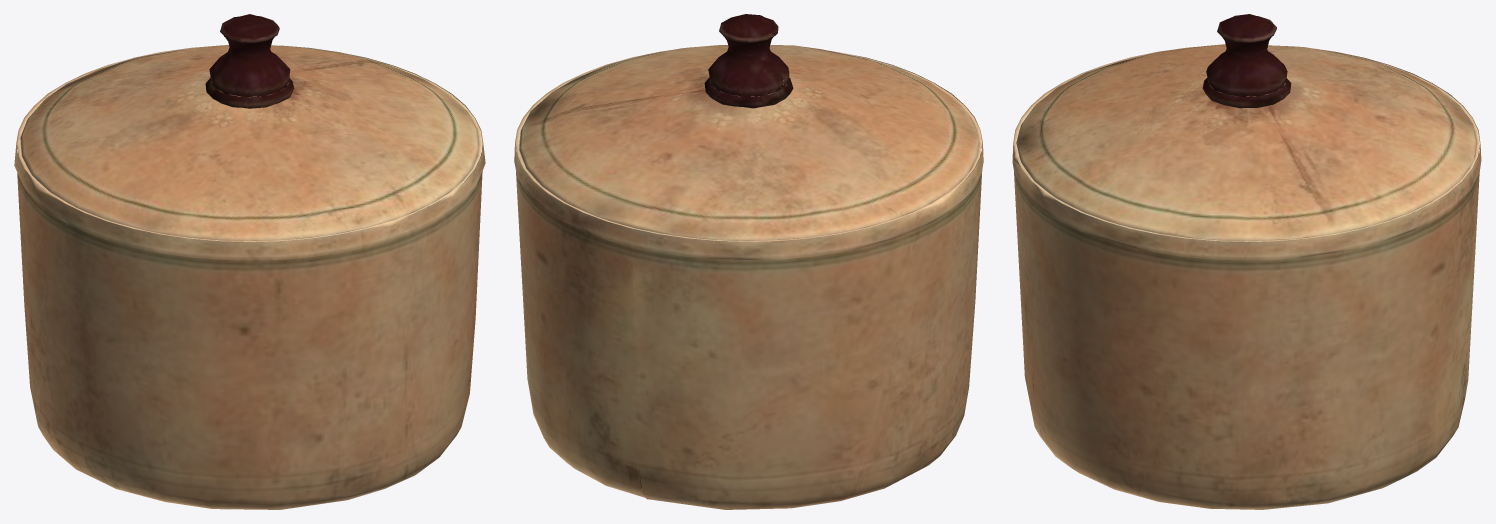
File: brass_pot_01.gltf
3 views of the same model, side by side, from view 1: azimuth 30°, elevation 25°; view 2: azimuth 150°, elevation 25°; view 3: azimuth 270°, elevation 25° (orthographic).
Parts seen in each view (by area): view 1: brass_pot_01; view 2: brass_pot_01; view 3: brass_pot_01.
Boxes of the visible parts, x1,y1,x2,y2 form: brass_pot_01: [14, 14, 485, 509]; brass_pot_01: [514, 14, 983, 509]; brass_pot_01: [1012, 14, 1481, 509].
Size of the model in its own units: 0.3005 by 0.291 by 0.3001.
1 material, 1 textured.
